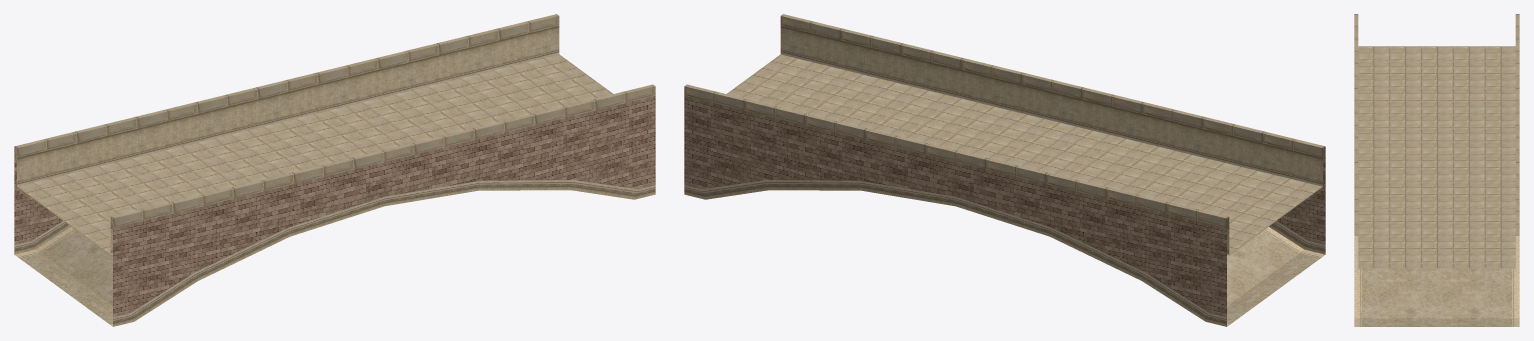
File: thm_nboo_imprv_street_bridge_s02_l1.fbx
The picture shows the model from 3 angles, left to right: view 1: azimuth 30°, elevation 25°; view 2: azimuth 150°, elevation 25°; view 3: azimuth 270°, elevation 25°; orthographic projection. The views are drawn at different scales.
Visible parts, largest first — view 1: mesh_node; view 2: mesh_node; view 3: mesh_node.
Part boxes in pixels (bbox=[...]): mesh_node: bbox=[14, 14, 655, 326]; mesh_node: bbox=[684, 14, 1325, 326]; mesh_node: bbox=[1354, 14, 1519, 326].
Size of the model in its own units: 16.5 by 3.15 by 5.2.
4 materials, 4 textured.
